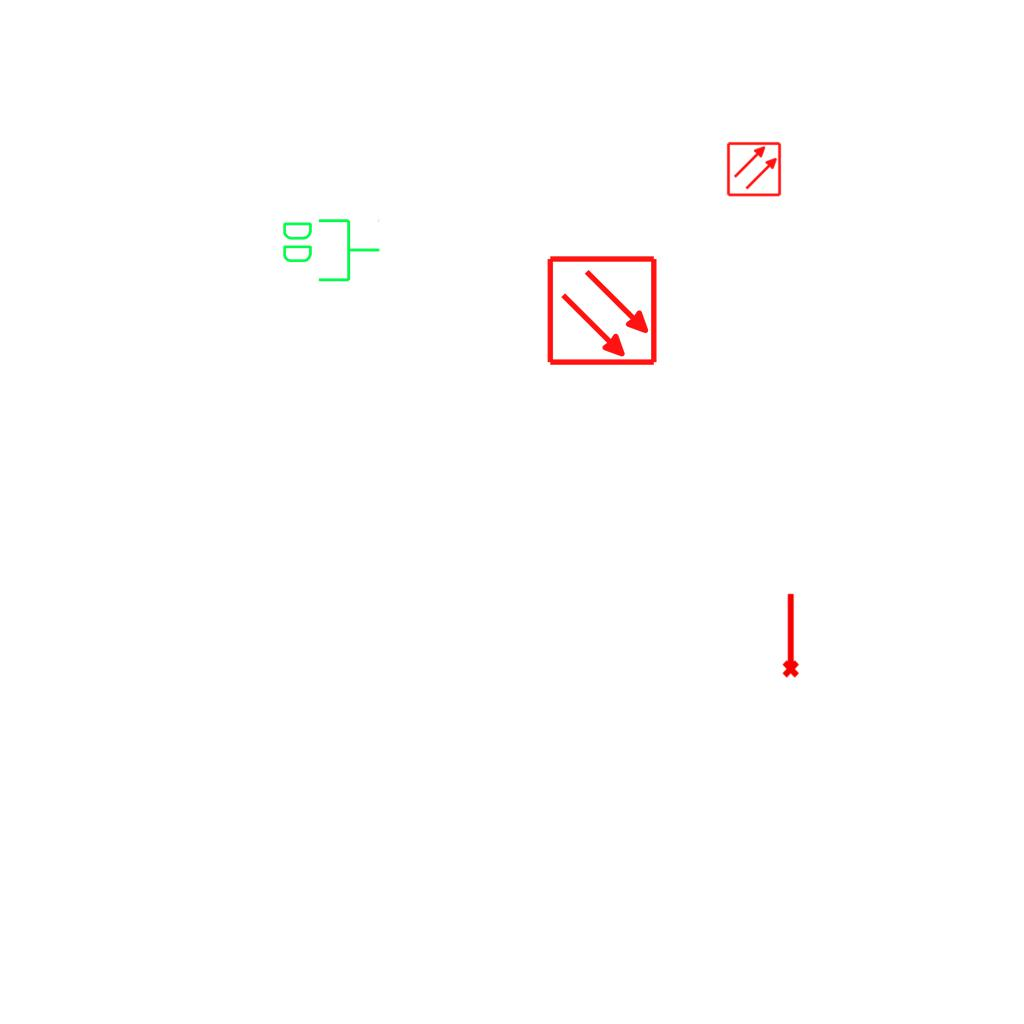ASR_Ansaugoeffnung: (778, 591, 801, 679)
Datenanschluss_zweifach: (279, 215, 382, 284)
RMO_Rauchmelder_optischer: (546, 254, 659, 367), (726, 141, 782, 197)
